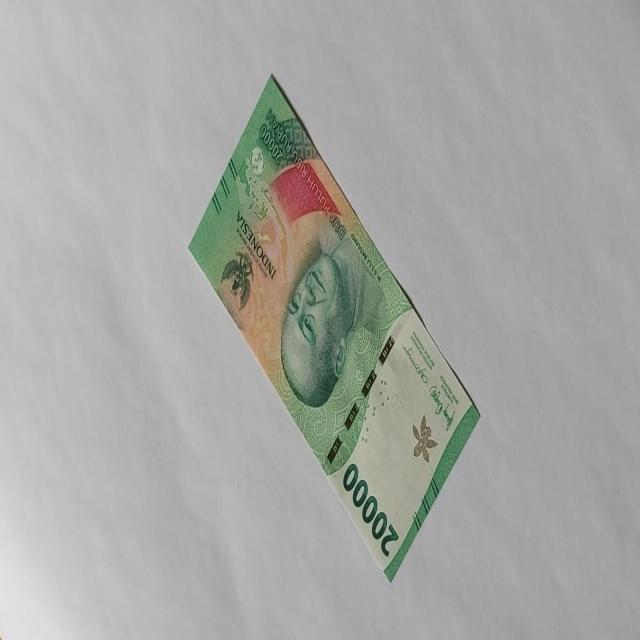dua puluh ribu rupiah: (187, 72, 481, 583)
